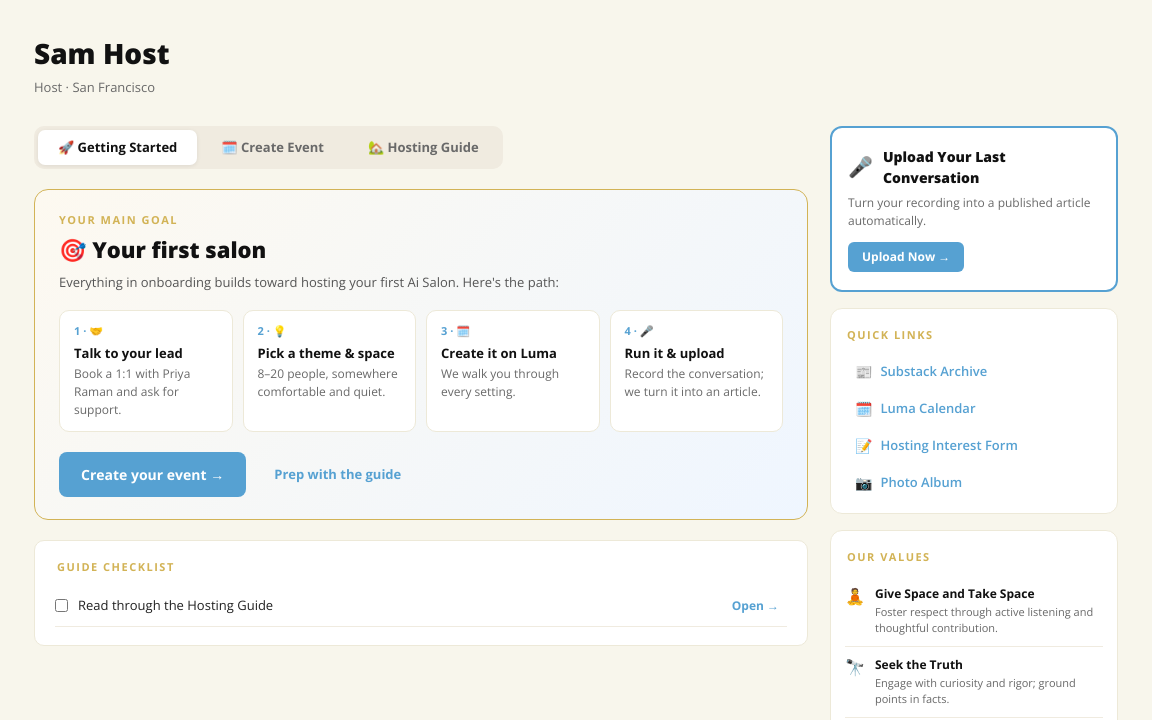
Test: WelcomeDashboard — host onboarding › centres Getting Started on hosting your first event
Expected: the heading "🎯 Your first salon" is shown, [59, 234, 266, 264]
Click the button "Create your event →".
click(153, 475)  # box [59, 452, 246, 497]
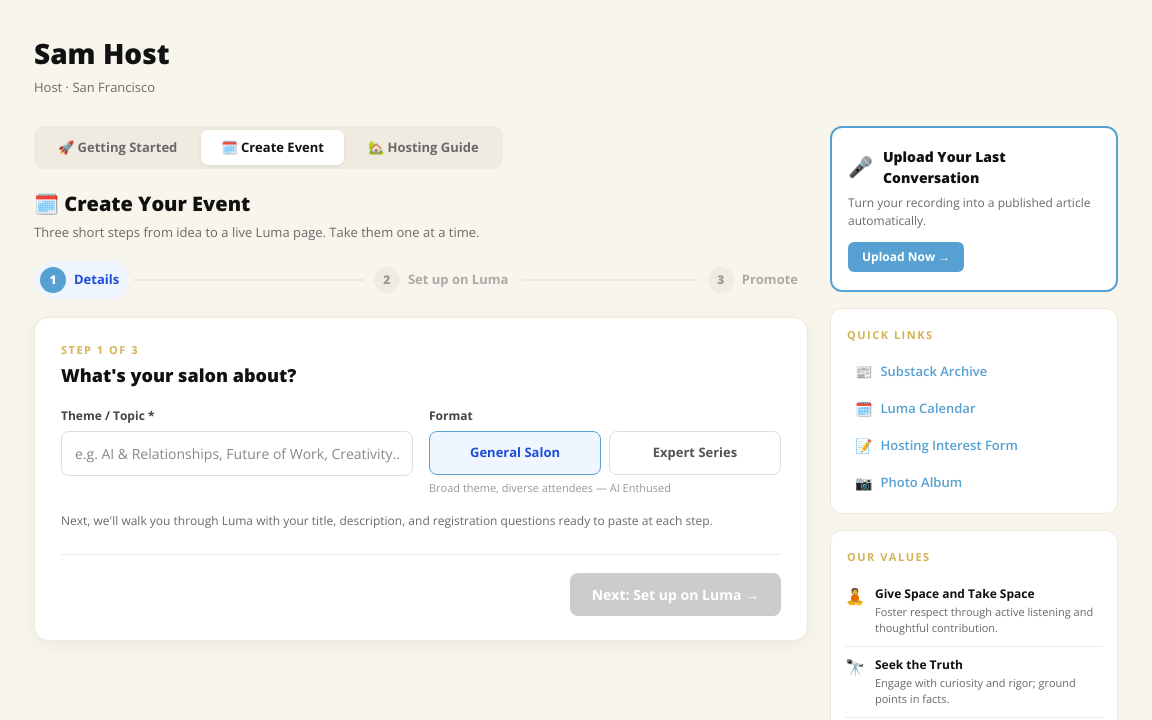
Expected: the field labelled "Theme / Topic *" is shown, [61, 431, 413, 476]
